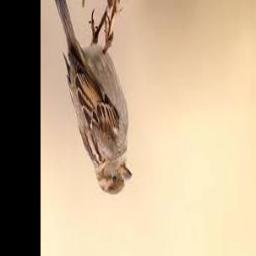Sparrow: (52, 0, 133, 194)
